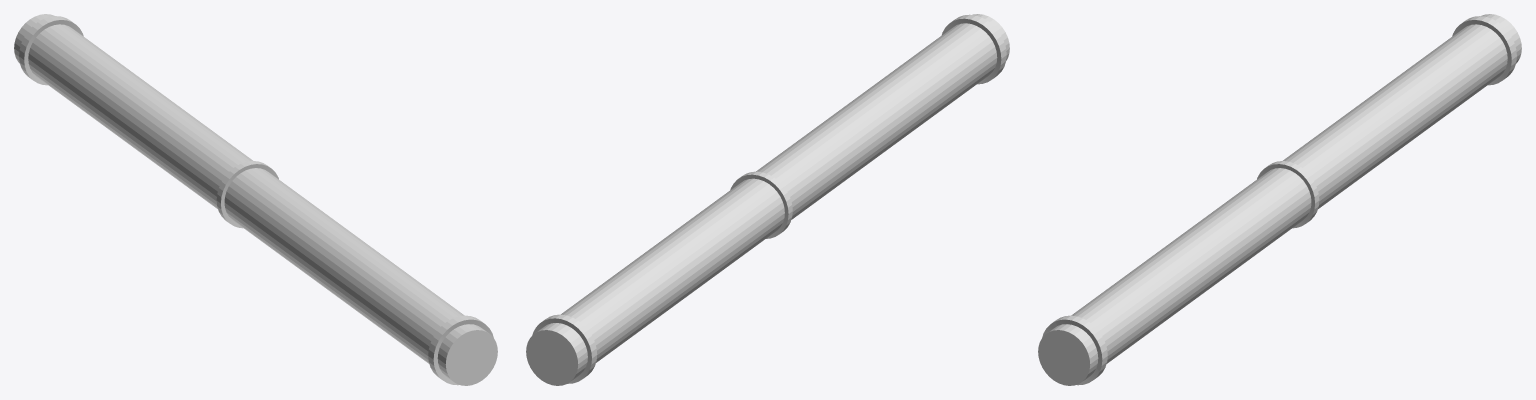
Rendered from PIPE..fbx.
3 views of the same model, side by side, from view 1: azimuth 30°, elevation 25°; view 2: azimuth 150°, elevation 25°; view 3: azimuth 330°, elevation 25° (orthographic).
Parts seen in each view (by area): view 1: Cylinder; view 2: Cylinder; view 3: Cylinder.
Part boxes in pixels (<box>): Cylinder: <box>14,14,497,385</box>; Cylinder: <box>526,14,1009,385</box>; Cylinder: <box>1038,14,1521,385</box>.
Size of the model in its own units: 65.5 by 65.5 by 801.
Materials: 1 (1 with a texture image).
